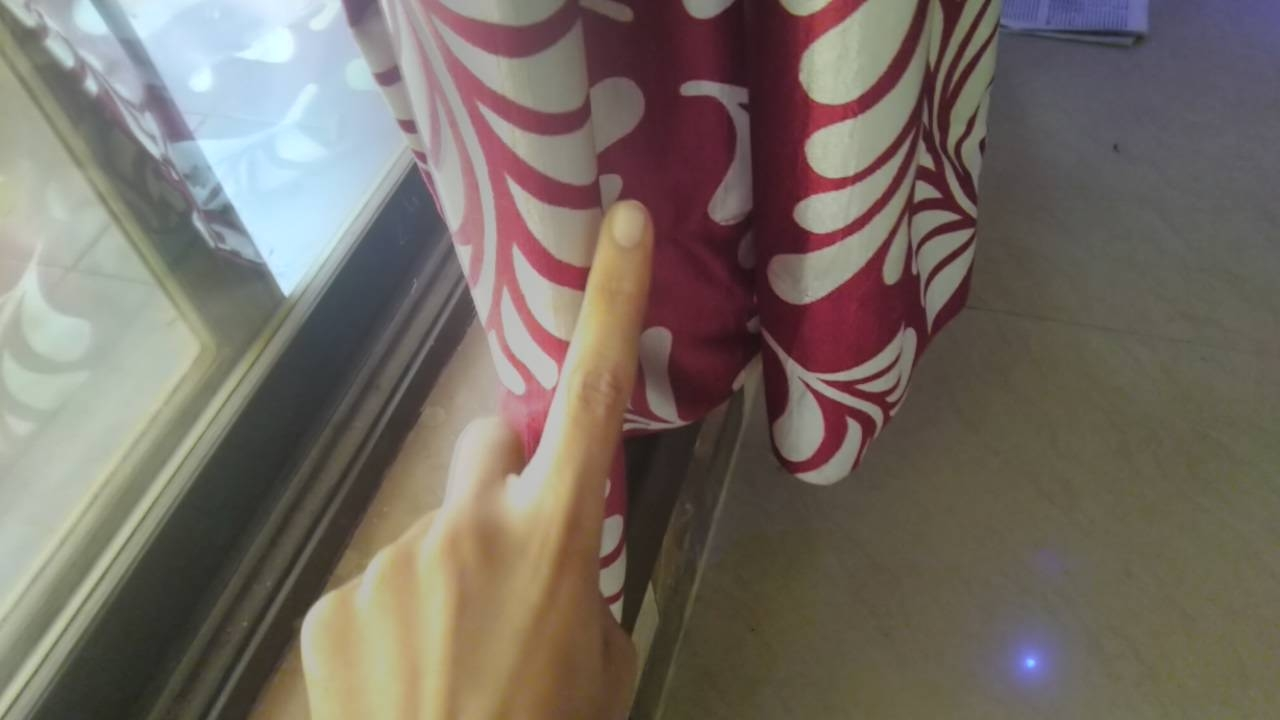fingertip: (590, 194, 656, 264)
